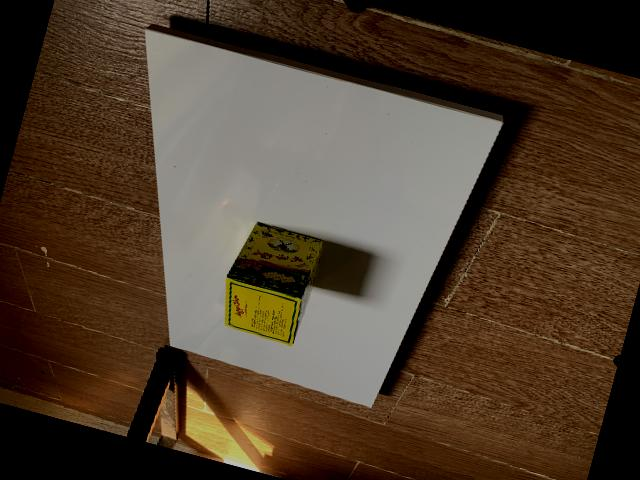luong_kho: (223, 220, 323, 345)
